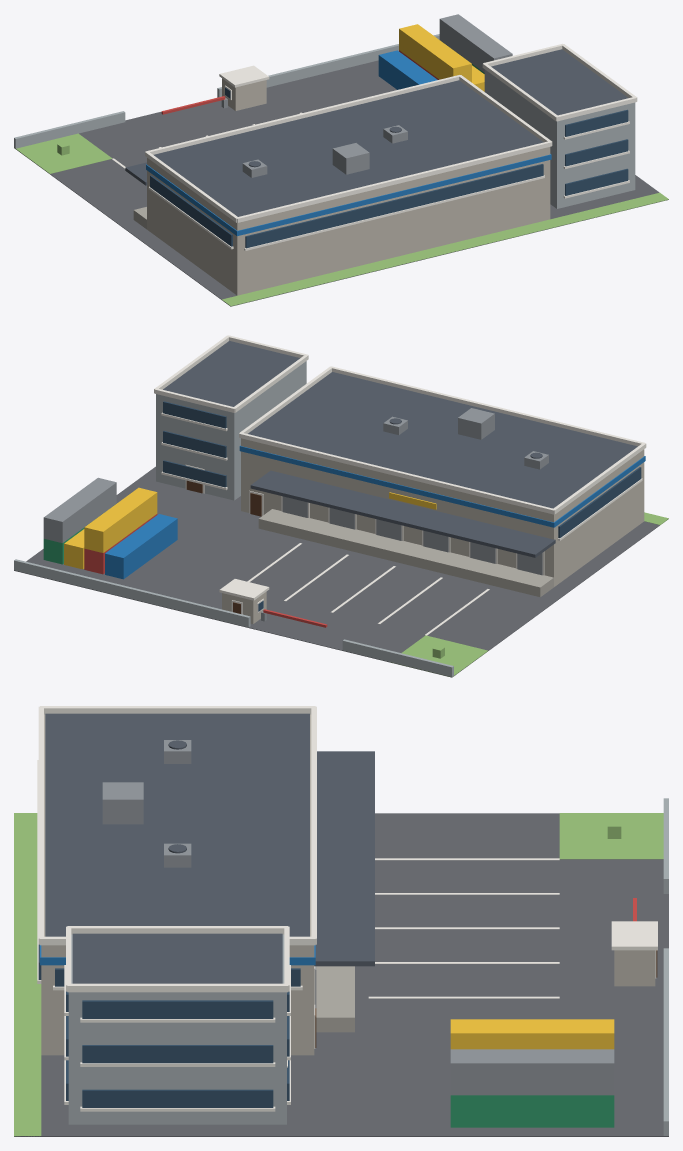
File: freighthub.glb
3 renders of one model, top to bottom at view 1: azimuth 30°, elevation 25°; view 2: azimuth 150°, elevation 25°; view 3: azimuth 270°, elevation 25°, orthographic. The views are drawn at different scales.
Parts seen in each view (by area): view 1: roof (×2), warehouse, yard, window_band (×5), parapet (×8), office, lawn (×2), container (×3), boundary_wall (×2), accent_stripe, gatehouse, roof_vent (+2 smaller); view 2: yard, roof (×2), warehouse, container (×5), parapet (×7), dock_canopy, loading_dock, office, boundary_wall (×2), window_band (×4), accent_stripe, lawn (+3 smaller); view 3: yard, roof (×2), container (×3), office, lawn (×2), dock_canopy, window_band (×3), parapet (×5), warehouse, loading_dock, sill (×3), roof_vent (+3 smaller).
Part boxes in pixels (bbox=[...]): roof (×2): bbox=[154, 49, 628, 216]; warehouse: bbox=[147, 147, 550, 295]; yard: bbox=[14, 60, 668, 306]; window_band (×5): bbox=[150, 109, 628, 248]; parapet (×8): bbox=[145, 43, 637, 222]; office: bbox=[484, 69, 635, 208]; lawn (×2): bbox=[14, 133, 668, 306]; container (×3): bbox=[378, 14, 512, 89]; boundary_wall (×2): bbox=[14, 34, 439, 148]; accent_stripe: bbox=[146, 154, 551, 236]; gatehouse: bbox=[222, 78, 266, 110]; roof_vent: bbox=[332, 143, 369, 174]; yard: bbox=[14, 466, 667, 677]; roof (×2): bbox=[163, 341, 637, 508]; warehouse: bbox=[241, 438, 644, 586]; container (×5): bbox=[43, 477, 177, 579]; parapet (×7): bbox=[154, 335, 646, 514]; dock_canopy: bbox=[250, 470, 555, 557]; loading_dock: bbox=[258, 509, 553, 597]; office: bbox=[156, 361, 306, 500]; boundary_wall (×2): bbox=[14, 559, 453, 676]; window_band (×4): bbox=[163, 401, 641, 538]; accent_stripe: bbox=[239, 445, 645, 527]; lawn: bbox=[390, 635, 487, 676]; yard: bbox=[14, 813, 668, 1136]; roof (×2): bbox=[45, 713, 309, 983]; container (×3): bbox=[450, 1019, 614, 1127]; office: bbox=[68, 934, 286, 1124]; lawn (×2): bbox=[14, 813, 663, 1136]; dock_canopy: bbox=[314, 751, 374, 966]; window_band (×3): bbox=[82, 1000, 273, 1107]; parapet (×5): bbox=[38, 706, 316, 992]; warehouse: bbox=[41, 714, 314, 1055]; loading_dock: bbox=[316, 966, 354, 1032]; sill (×3): bbox=[80, 1017, 275, 1111]; roof_vent: bbox=[102, 782, 143, 824].
Size of the model in its own units: 56 by 11.36 by 48.
